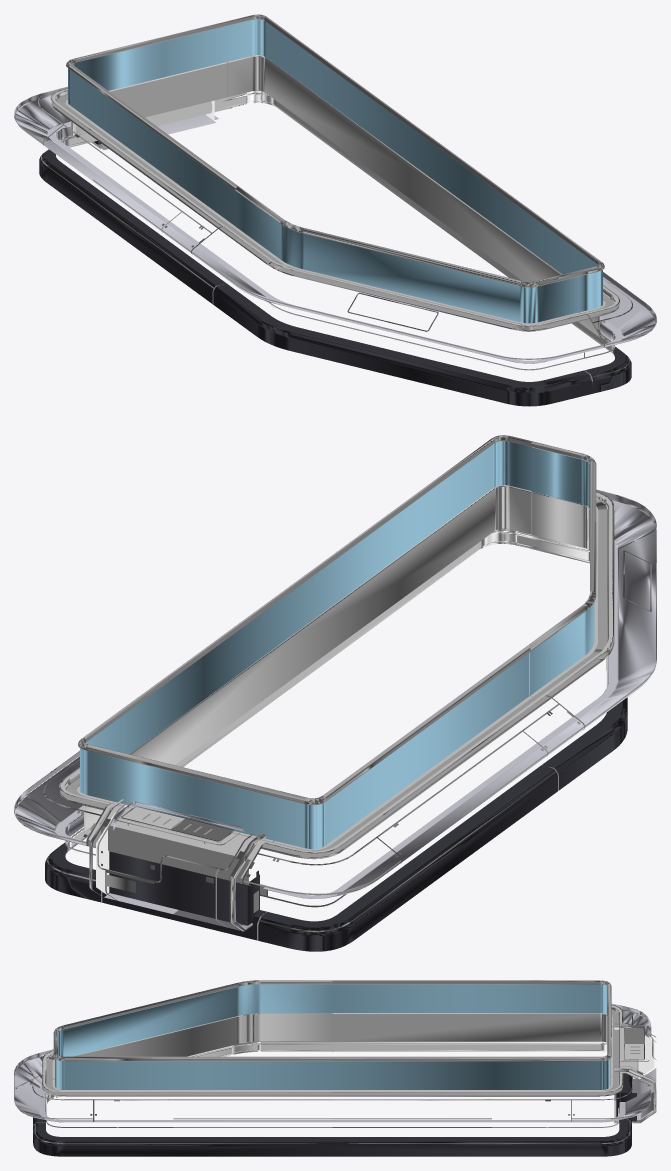
Rendered from addon_planter_terrarium_04x10x02_chamfer_a.glb.
3 renders of one model, top to bottom at view 1: azimuth 30°, elevation 25°; view 2: azimuth 150°, elevation 25°; view 3: azimuth 270°, elevation 25°, orthographic. The views are drawn at different scales.
Size of the model in its own units: 5.02 by 1.87 by 12.11.
